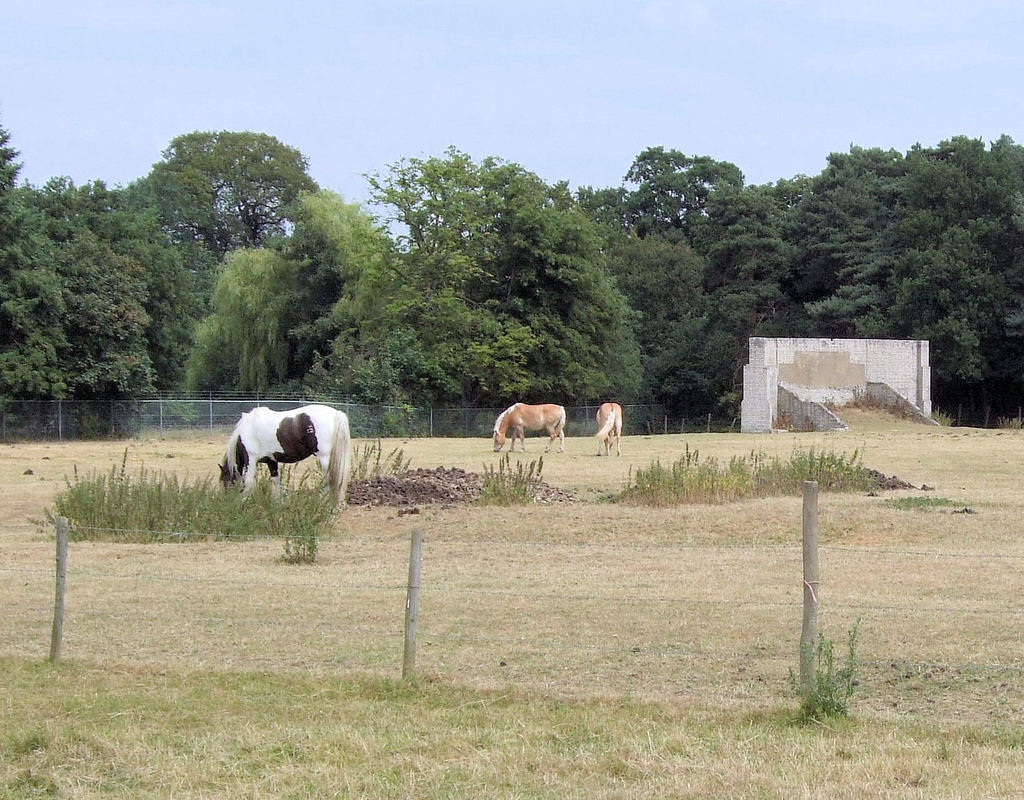horse: (493, 400, 566, 456), (594, 398, 621, 453)
